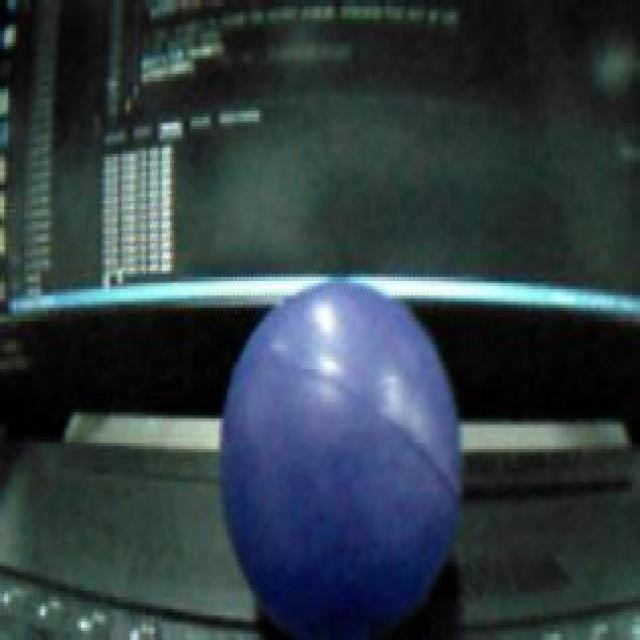BallPurple: (219, 278, 462, 636)
